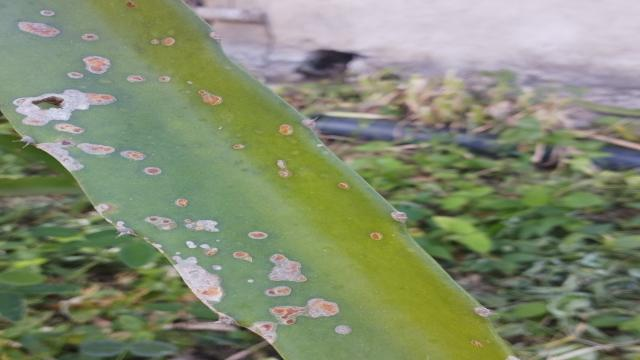stemcanker: (146, 34, 187, 52), (194, 87, 227, 109), (270, 156, 299, 181), (116, 146, 152, 165), (262, 284, 298, 302), (242, 228, 278, 245), (364, 224, 389, 247), (330, 321, 362, 338), (229, 248, 258, 266), (62, 64, 88, 84), (76, 28, 106, 45), (329, 178, 356, 196), (140, 164, 168, 181), (272, 122, 296, 140), (125, 71, 149, 86), (173, 195, 192, 211), (230, 140, 252, 152), (39, 6, 60, 18), (154, 74, 174, 86)
